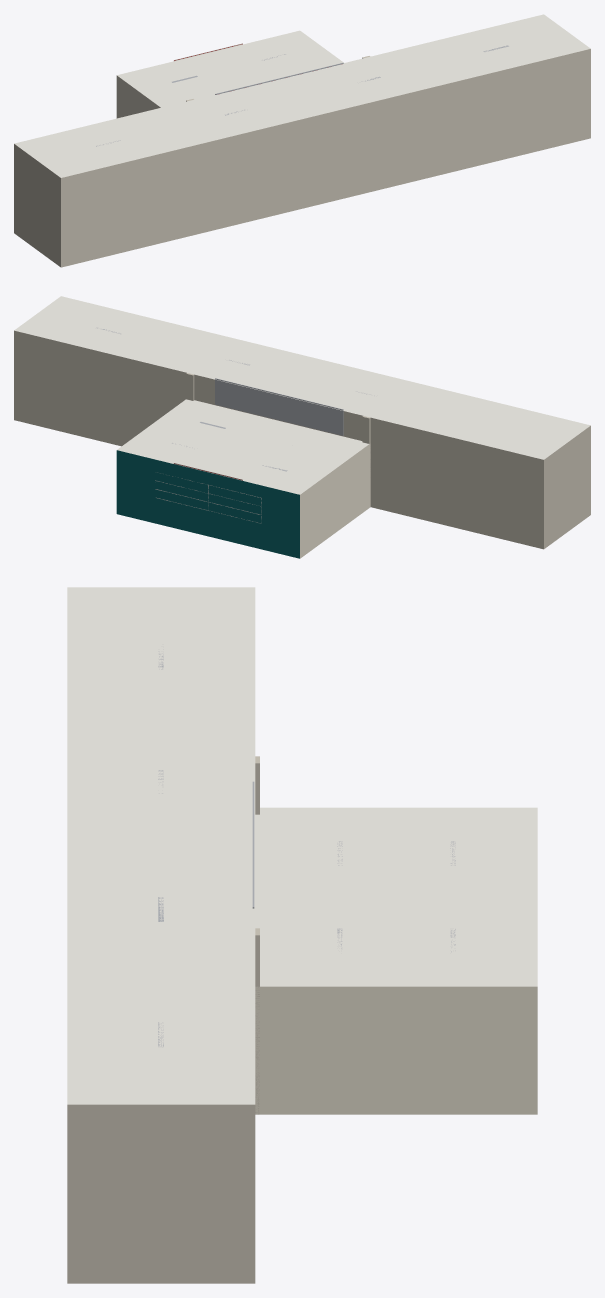
Rendered from shop_shell.glb.
The picture shows the model from 3 angles, top to bottom: view 1: azimuth 30°, elevation 25°; view 2: azimuth 150°, elevation 25°; view 3: azimuth 270°, elevation 25°; orthographic projection. The views are drawn at different scales.
Visible parts, largest first — view 1: ShopShell; view 2: ShopShell; view 3: ShopShell.
Part boxes in pixels (left/top/right/bottom): ShopShell: left=14, top=14, right=590, bottom=267; ShopShell: left=14, top=296, right=590, bottom=558; ShopShell: left=67, top=587, right=537, bottom=1283.
Size of the model in its own units: 26 by 4.24 by 10.
Materials: 15 (1 with a texture image).
